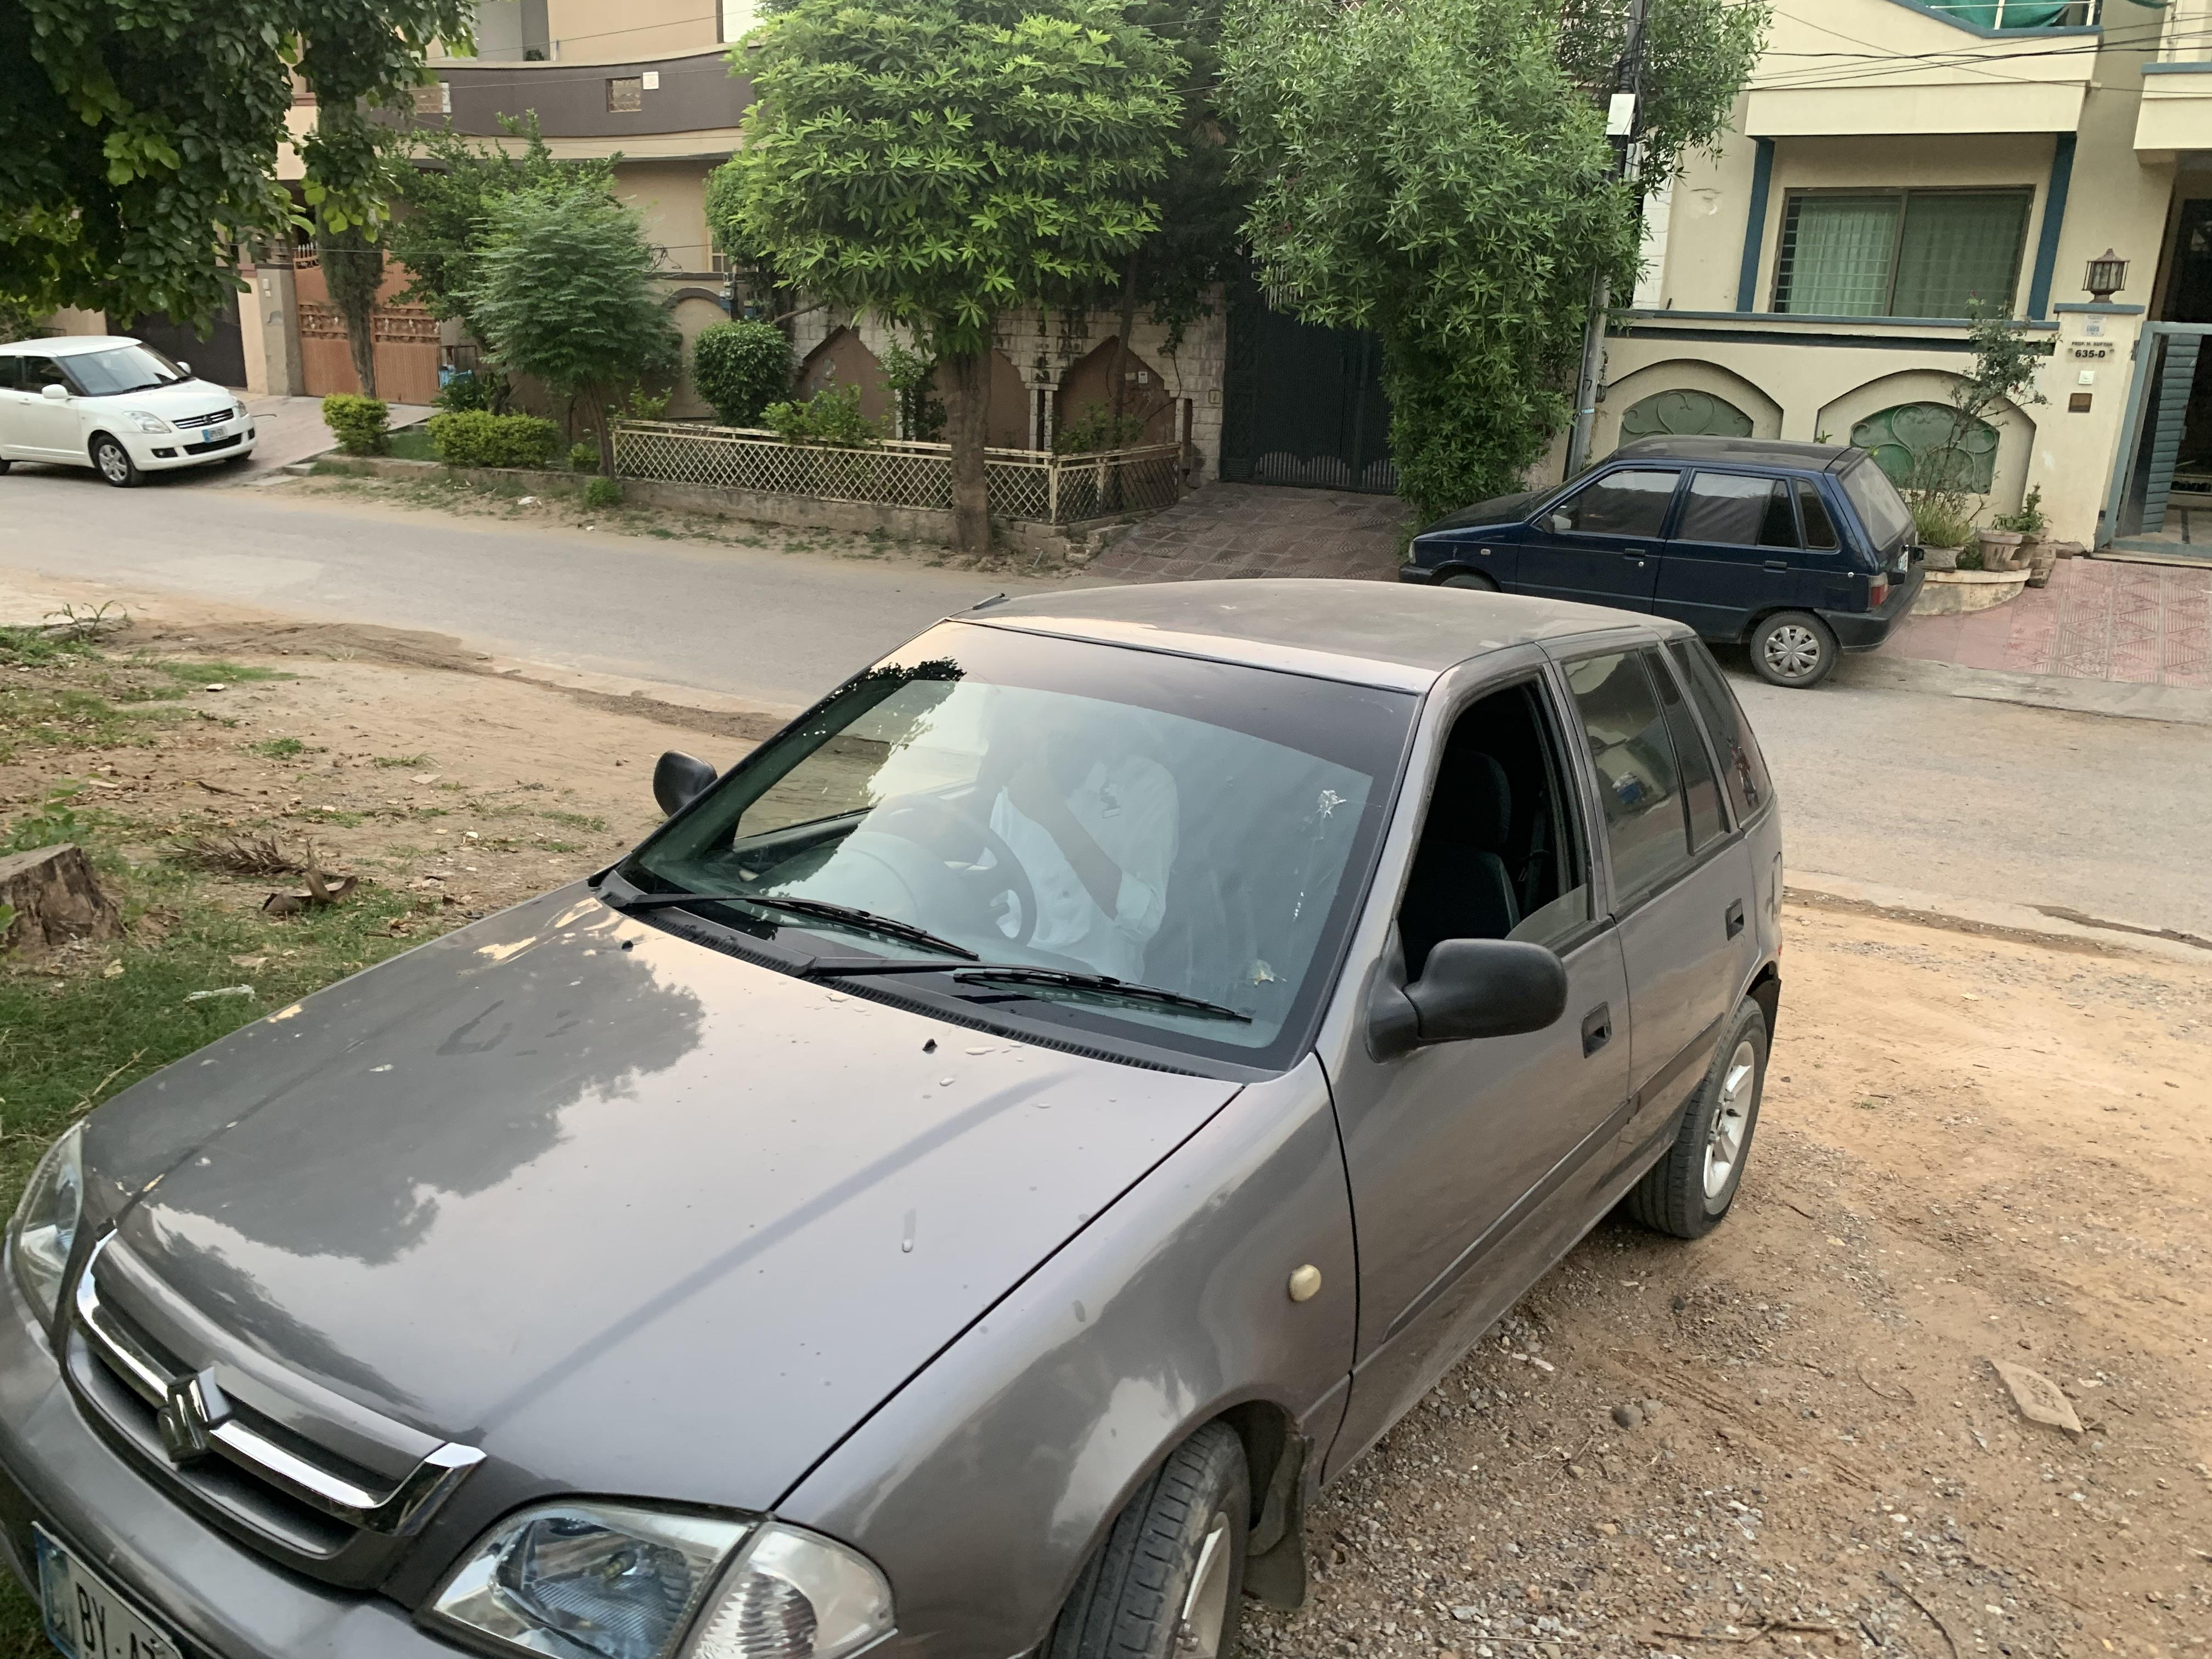windshield: (561, 598, 1444, 1131)
